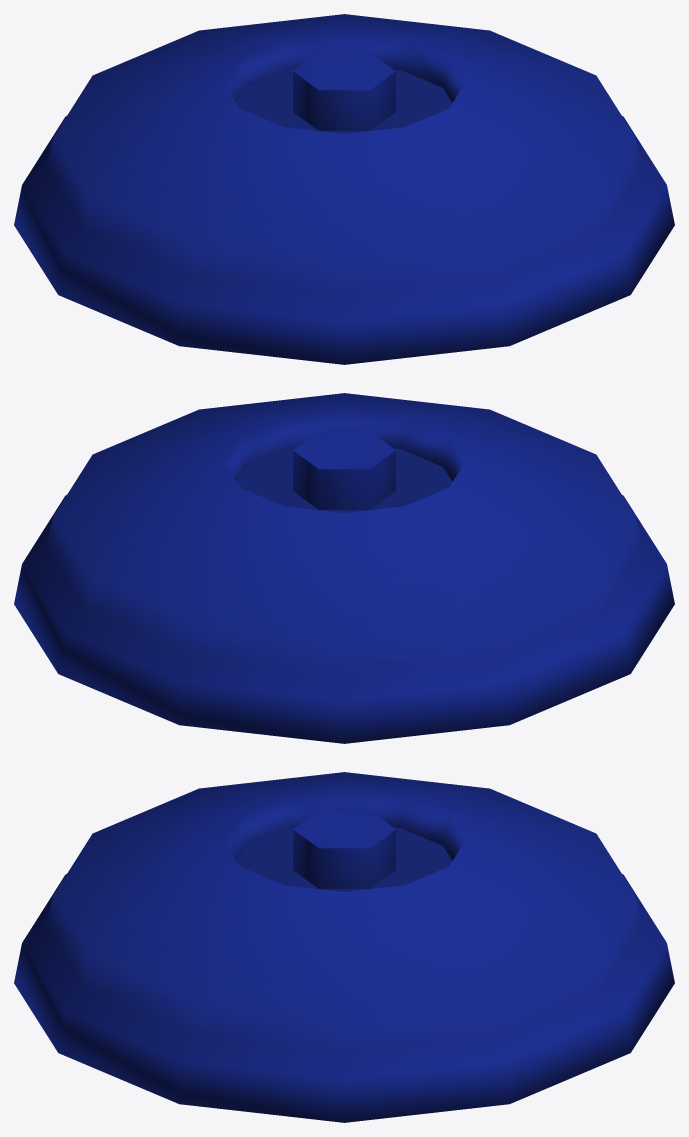
File: TrashcCanTop_SM.fbx
The picture shows the model from 3 angles, top to bottom: view 1: azimuth 30°, elevation 25°; view 2: azimuth 150°, elevation 25°; view 3: azimuth 270°, elevation 25°; orthographic projection.
Visible parts, largest first — view 1: TrashCanTop_SM; view 2: TrashCanTop_SM; view 3: TrashCanTop_SM.
Part boxes in pixels (left/top/right/bottom): TrashCanTop_SM: left=14, top=14, right=674, bottom=364; TrashCanTop_SM: left=14, top=393, right=674, bottom=743; TrashCanTop_SM: left=14, top=772, right=674, bottom=1122.
Bounding box in the file's own units: 69.66 × 17.9 × 69.66.
